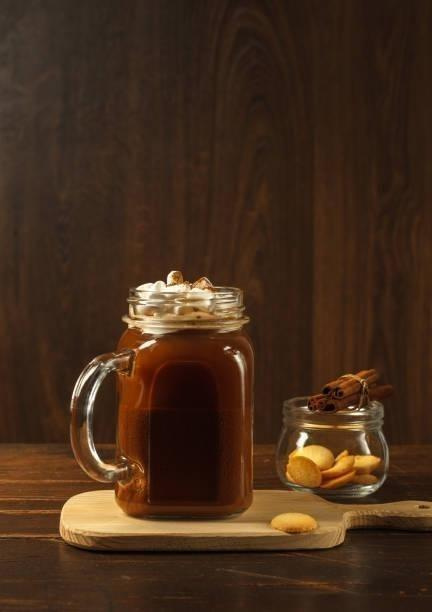glass-mug: (66, 277, 258, 524)
